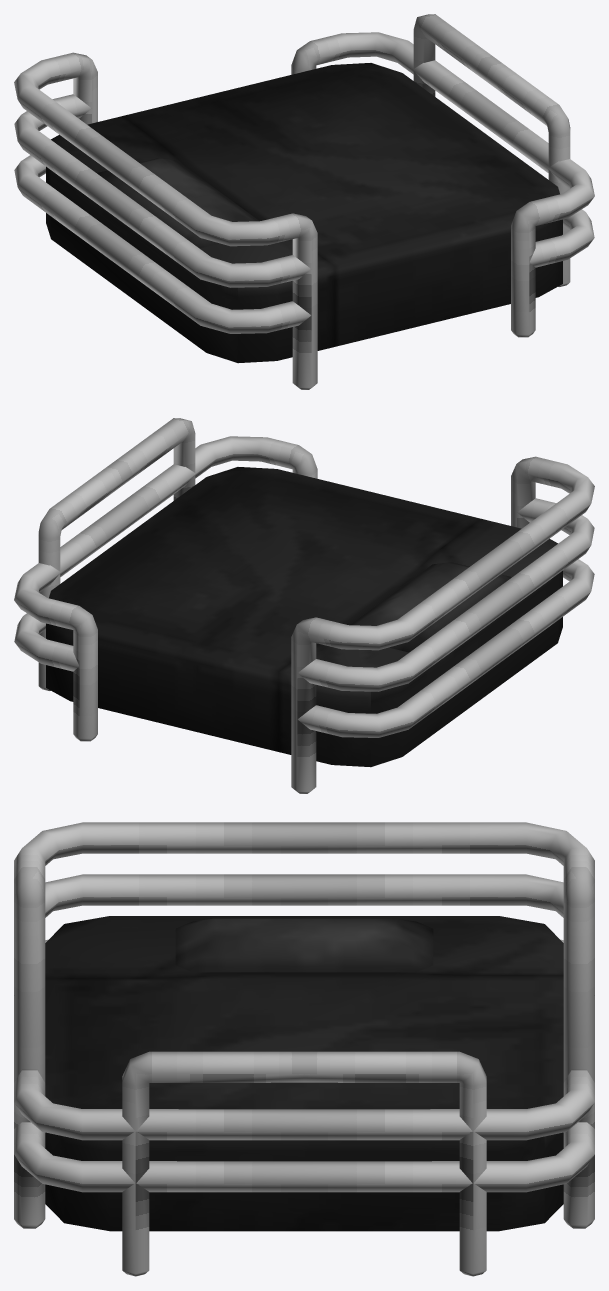
The model's file is rmk_pip_bedW.dae.
3 renders of one model, top to bottom at view 1: azimuth 30°, elevation 25°; view 2: azimuth 150°, elevation 25°; view 3: azimuth 270°, elevation 25°, orthographic. The views are drawn at different scales.
Visible parts, largest first — view 1: rmk_pip_bedW; view 2: rmk_pip_bedW; view 3: rmk_pip_bedW.
Part boxes in pixels (bbox=[...]): rmk_pip_bedW: bbox=[14, 14, 594, 389]; rmk_pip_bedW: bbox=[14, 418, 594, 793]; rmk_pip_bedW: bbox=[14, 822, 594, 1276].
Size of the model in its own units: 61.87 by 25.89 by 62.74.
2 materials, 2 textured.
